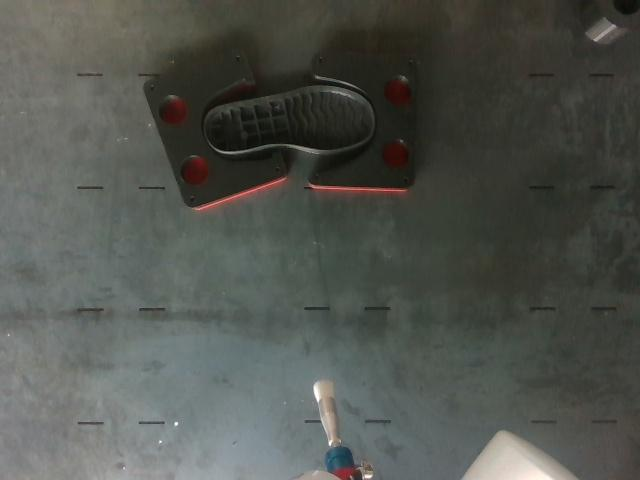shoes: (206, 88, 372, 151)
